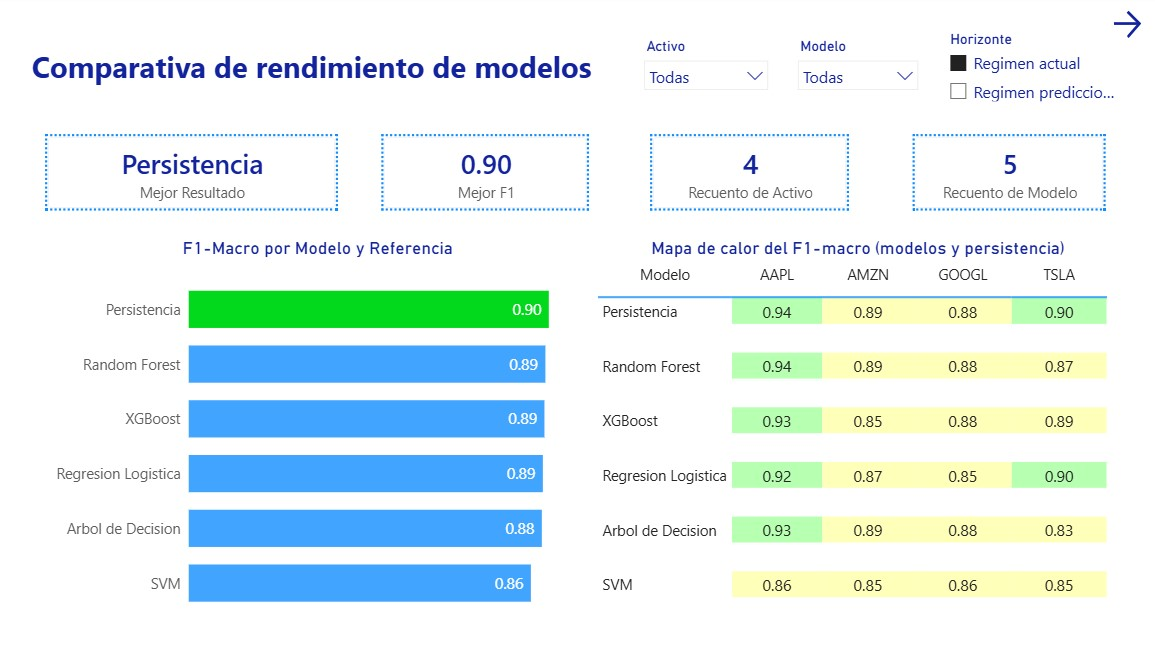

Layout of this report page (visuals, bound fields, positions):
{"tool":"powerbi","page":{"name":"Comparativa","canvas":[1280,720],"ordinal":0},"visuals":[{"type":"cardVisual","fields":{"Data":["pbi_metricas.Mejor Modelo"]},"box":[37,135.5,355.4,118],"z":0},{"type":"cardVisual","fields":{"Data":["pbi_metricas.Mejor F1"]},"box":[406.2,135.5,262.1,118],"z":1000},{"type":"cardVisual","fields":{"Data":["CountNonNull(Activos.Activo)"]},"box":[701.2,135.5,252.5,118],"z":2000},{"type":"cardVisual","fields":{"Data":["CountNonNull(Modelos.Modelo)"]},"box":[989.4,135.5,247,118],"z":3000},{"type":"clusteredBarChart","title":"F1-Macro por Modelo y Referencia","fields":{"Category":["Modelos.Modelo"],"Y":["Avg(pbi_metricas.F1_macro)"]},"box":[50.8,266.2,605.1,430.9],"z":4000},{"type":"pivotTable","title":"Mapa de calor del F1-macro (modelos y persistencia)","fields":{"Rows":["Modelos.Modelo"],"Values":["Avg(pbi_metricas.F1_macro)"],"Columns":["Activos.Activo"]},"box":[655.9,266.2,580.4,454.2],"z":5000},{"type":"slicer","fields":{"Values":["Activos.Activo"]},"box":[701.2,42.5,156.4,74.1],"z":6000},{"type":"slicer","fields":{"Values":["Modelos.Modelo"]},"box":[870,42.5,152.3,74.1],"z":7000},{"type":"textbox","box":[34.3,52.1,634,64.5],"z":8000},{"type":"actionButton","box":[1221,12.4,56.5,40],"z":9000},{"type":"slicer","fields":{"Values":["Horizontes.Horizonte"]},"box":[1034.7,34.3,207.2,93.3],"z":9001}]}

Visuals, with their boxes in screenshot pixels (x1, y1, x2, y2), scaled from the page's 1280x720 canvas onto the 1155x647 screenshot:
cardVisual - pbi_metricas.Mejor Modelo: (33, 122, 354, 228)
cardVisual - pbi_metricas.Mejor F1: (367, 122, 603, 228)
cardVisual - CountNonNull(Activos.Activo): (633, 122, 861, 228)
cardVisual - CountNonNull(Modelos.Modelo): (893, 122, 1116, 228)
"F1-Macro por Modelo y Referencia" clusteredBarChart: (46, 239, 592, 626)
"Mapa de calor del F1-macro (modelos y persistencia)" pivotTable: (592, 239, 1116, 646)
slicer - Activos.Activo: (633, 38, 774, 105)
slicer - Modelos.Modelo: (785, 38, 922, 105)
textbox: (31, 47, 603, 105)
actionButton: (1102, 11, 1153, 47)
slicer - Horizontes.Horizonte: (934, 31, 1121, 115)
